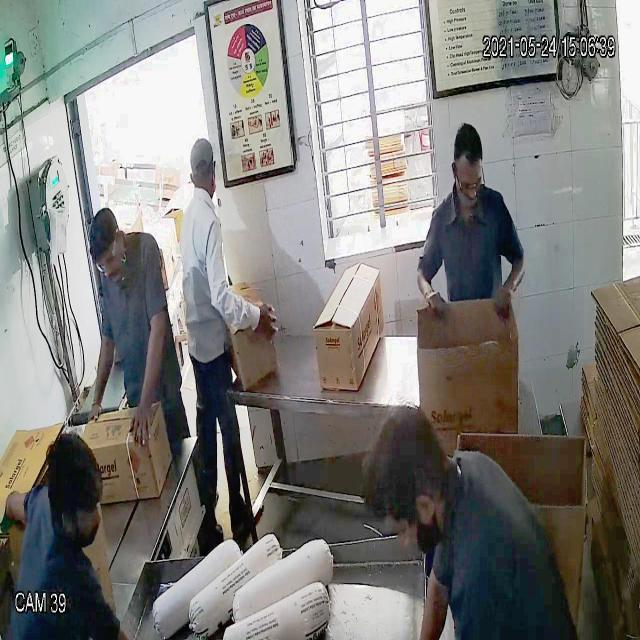glasses: (450, 163, 488, 198), (90, 238, 122, 275)
